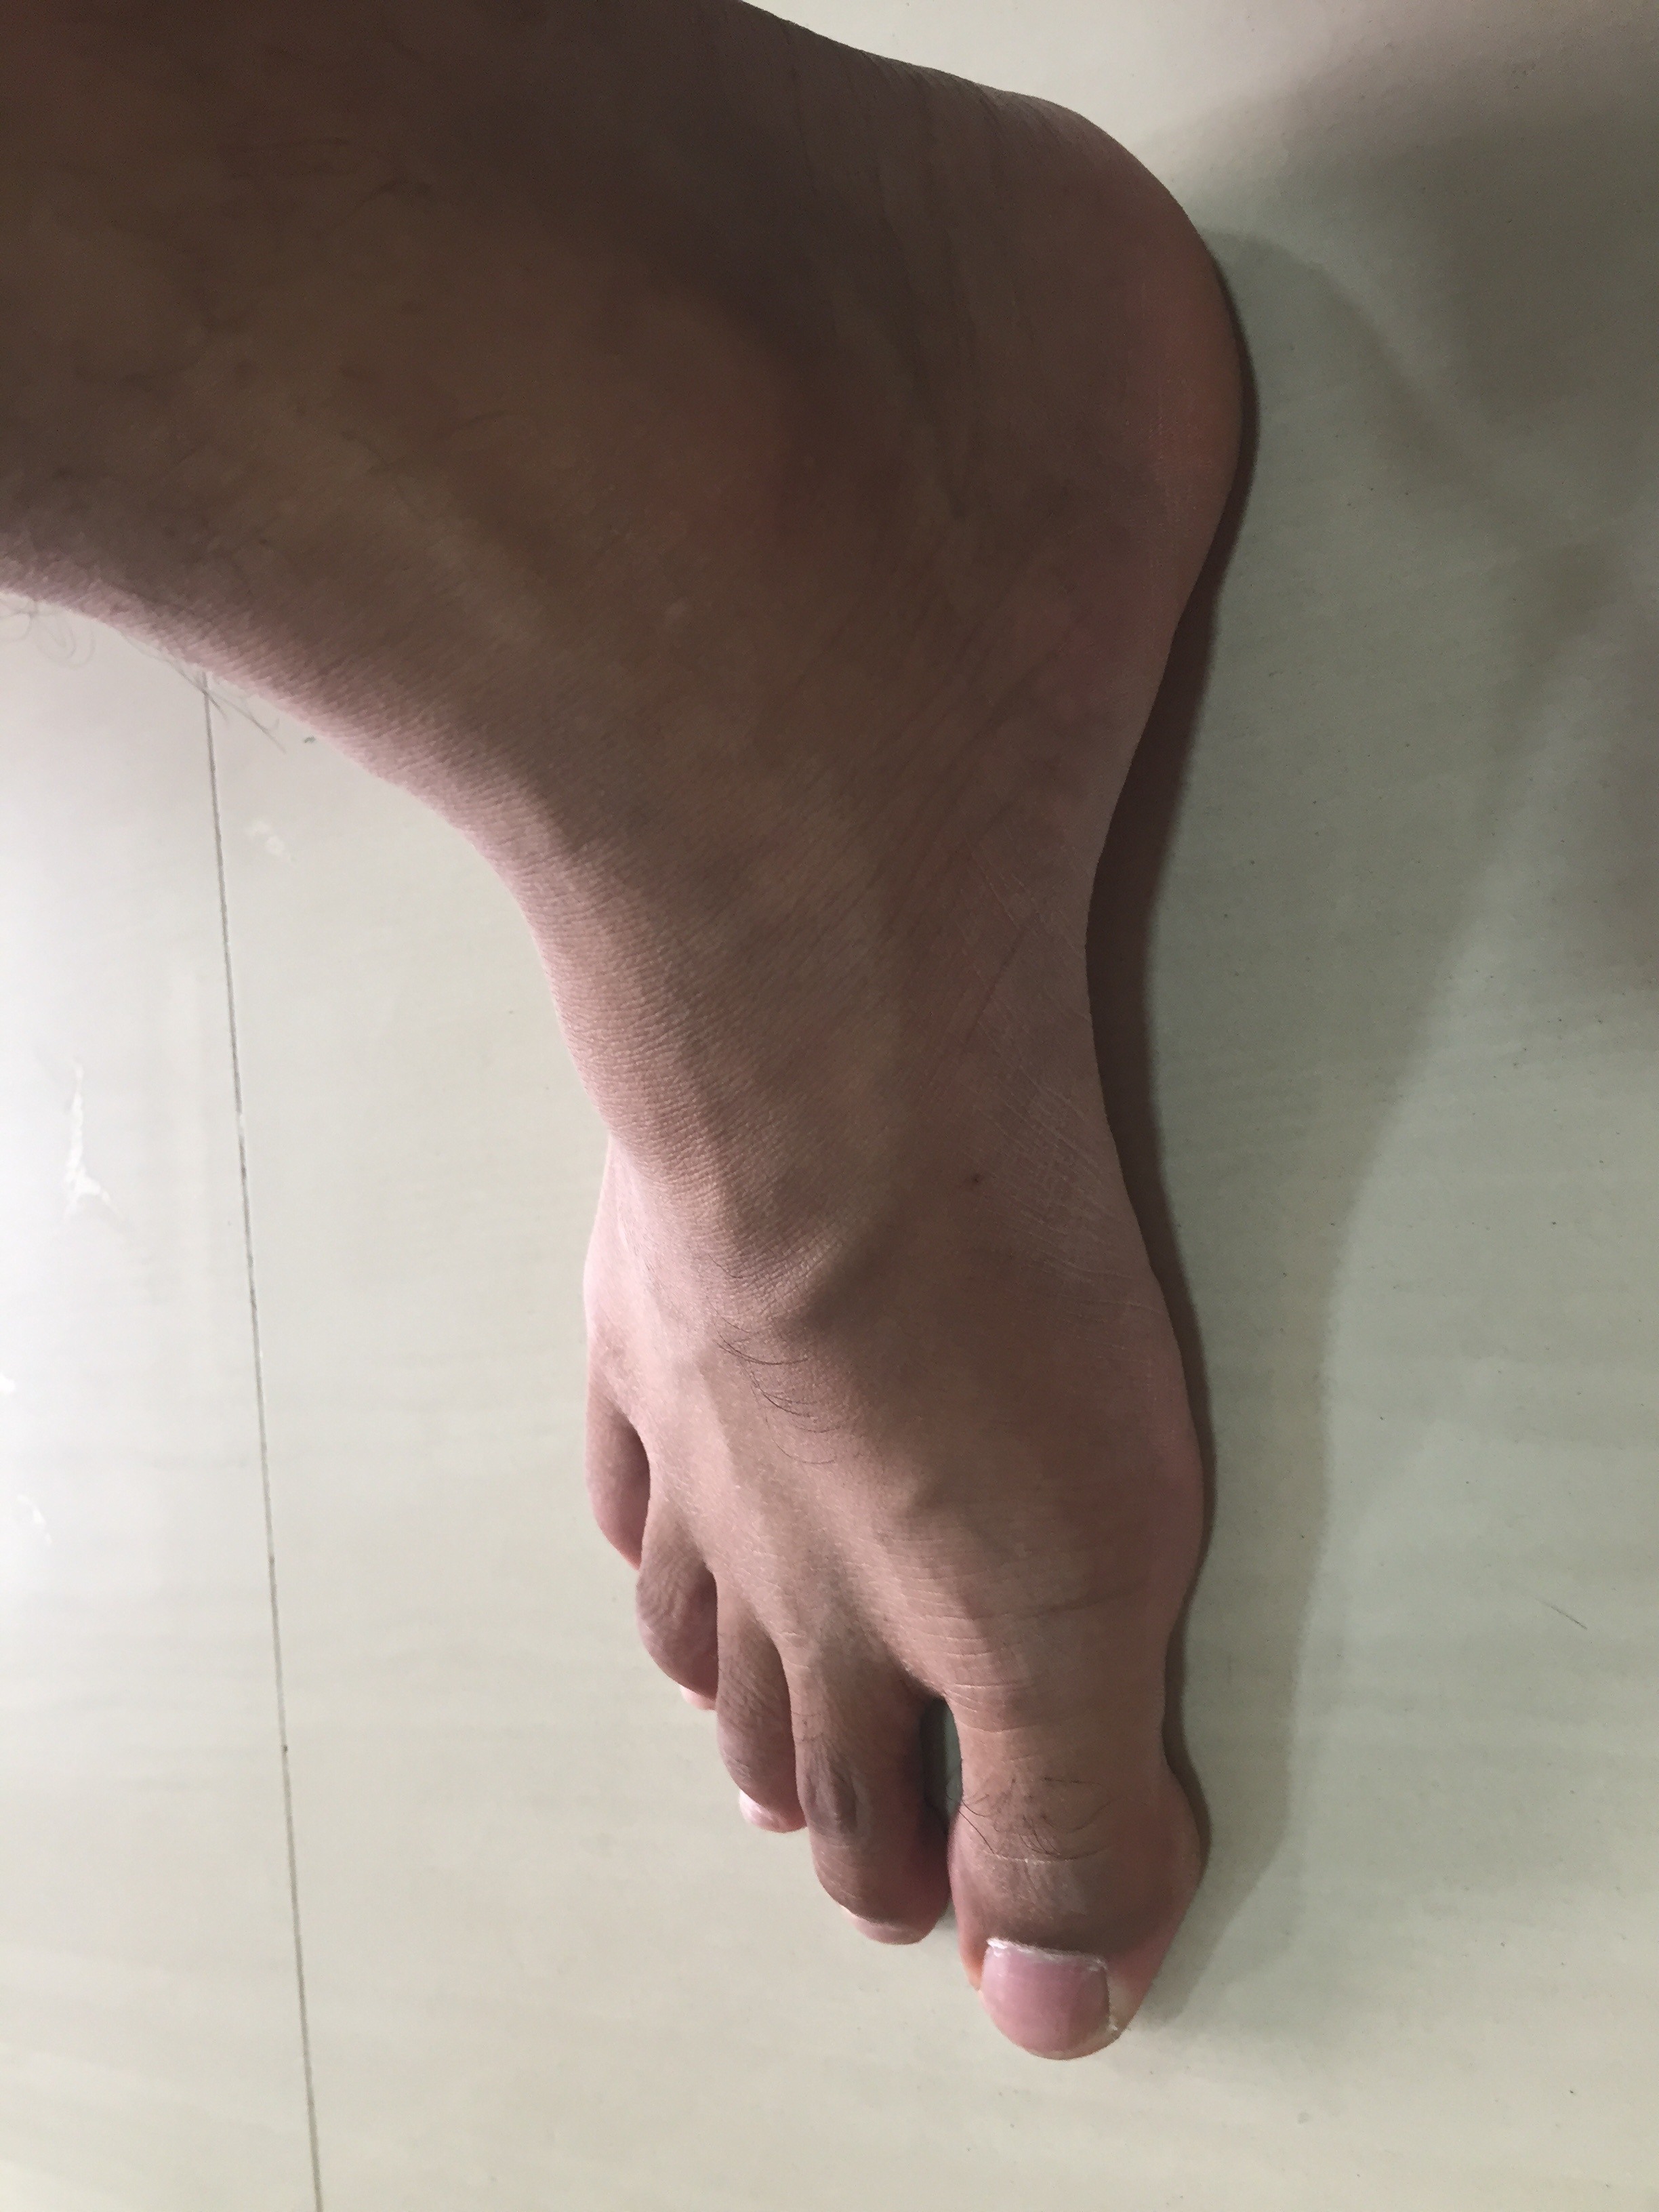feet: (183, 68, 1265, 2060)
